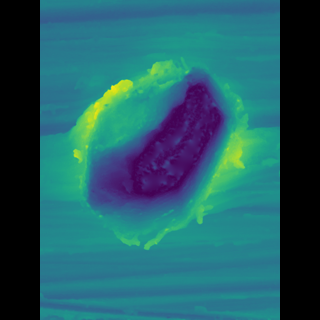Loch: (88, 49, 230, 254)
